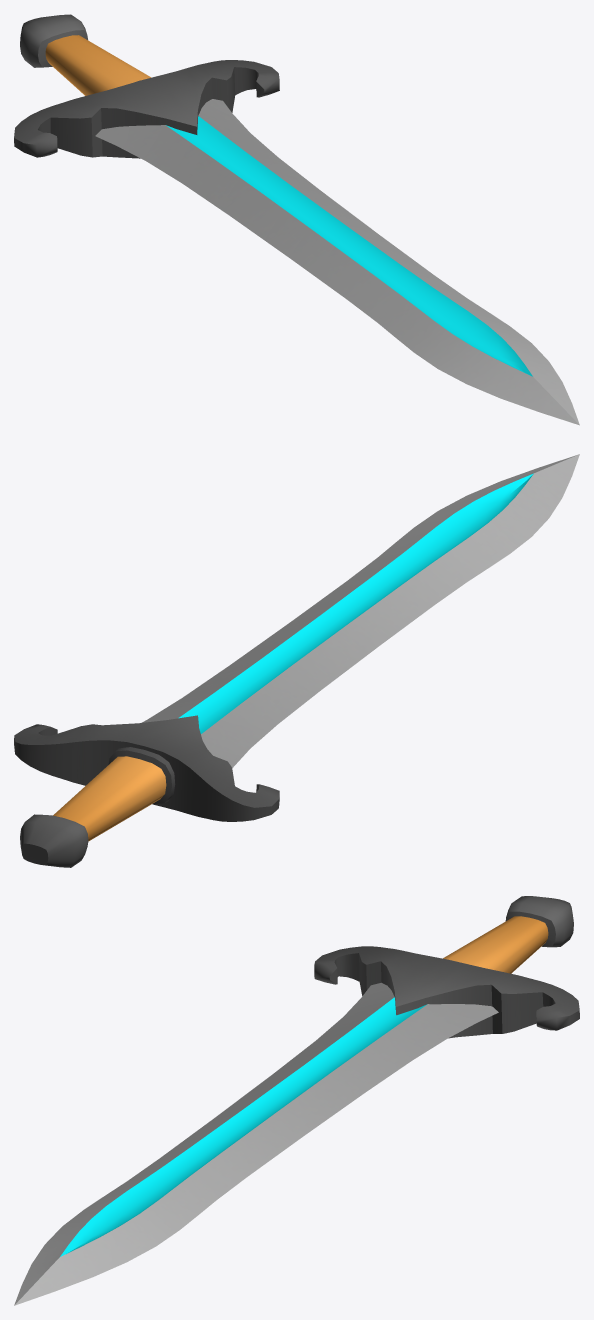
Rendered from SM_Sword.fbx.
3 views of the same model, one above another, from view 1: azimuth 30°, elevation 25°; view 2: azimuth 150°, elevation 25°; view 3: azimuth 330°, elevation 25° (orthographic).
Visible parts, largest first — view 1: Sword; view 2: Sword; view 3: Sword.
Part boxes in pixels (x1=…): Sword: x1=14, y1=14, x2=579, y2=425; Sword: x1=14, y1=454, x2=579, y2=867; Sword: x1=14, y1=896, x2=579, y2=1305.
Bounding box in the file's own units: 19.19 × 4 × 70.26.
